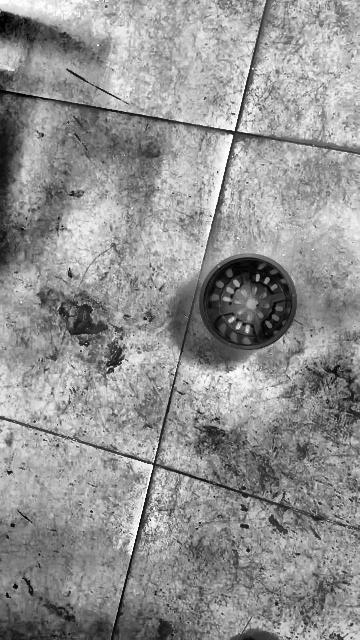pot: (198, 254, 297, 348)
